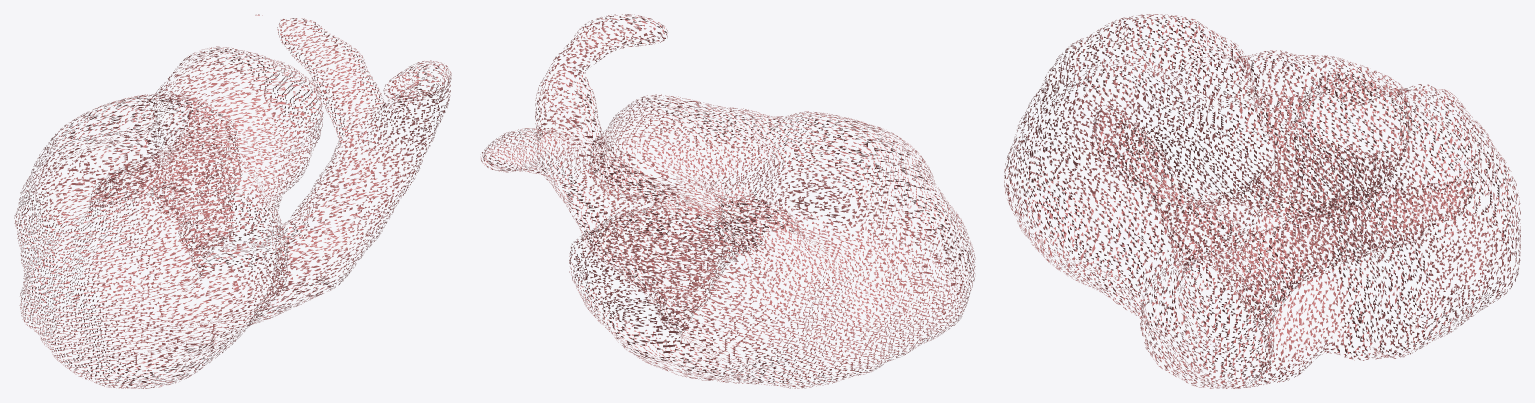
The model's file is heart.glb.
3 renders of one model, left to right at view 1: azimuth 30°, elevation 25°; view 2: azimuth 150°, elevation 25°; view 3: azimuth 270°, elevation 25°, orthographic. The views are drawn at different scales.
Size of the model in its own units: 140 by 84.96 by 115.
